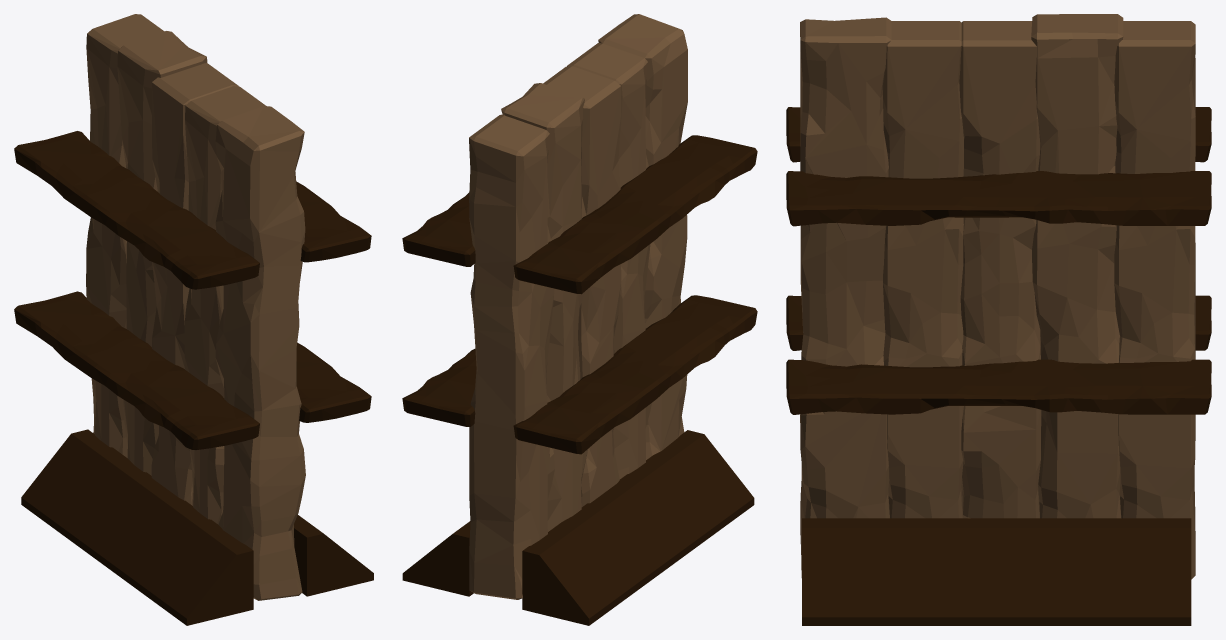
The model's file is Shelves.fbx.
The picture shows the model from 3 angles, left to right: view 1: azimuth 30°, elevation 25°; view 2: azimuth 150°, elevation 25°; view 3: azimuth 270°, elevation 25°; orthographic projection. The views are drawn at different scales.
Parts seen in each view (by area): view 1: plank3.008, Cube.032, plank3.016, plank3.017, plank3.009, plank3.012, plank3.014, plank3.010, plank3.015, Cube.031, plank3.013; view 2: plank3.014, Cube.032, plank3.017, plank3.016, plank3.008, plank3.010, plank3.009, plank3.012, plank3.015, plank3.013, Cube.031; view 3: Cube.031, plank3.008, plank3.010, plank3.012, plank3.009, plank3.014, plank3.013, plank3.015, plank3.017, plank3.016.
Part boxes in pixels (left/top/right/bottom): plank3.008: left=215, top=106, right=305, bottom=600; Cube.032: left=21, top=429, right=253, bottom=625; plank3.016: left=14, top=131, right=259, bottom=289; plank3.017: left=14, top=291, right=259, bottom=449; plank3.009: left=151, top=63, right=238, bottom=505; plank3.012: left=184, top=86, right=265, bottom=524; plank3.014: left=86, top=14, right=164, bottom=457; plank3.010: left=117, top=31, right=207, bottom=475; plank3.015: left=296, top=342, right=371, bottom=422; Cube.031: left=294, top=515, right=373, bottom=596; plank3.013: left=296, top=181, right=371, bottom=262; plank3.014: left=469, top=114, right=554, bottom=599; Cube.032: left=522, top=430, right=754, bottom=625; plank3.017: left=513, top=295, right=757, bottom=454; plank3.016: left=513, top=135, right=757, bottom=294; plank3.008: left=598, top=14, right=687, bottom=459; plank3.010: left=501, top=83, right=587, bottom=531; plank3.009: left=543, top=66, right=621, bottom=506; plank3.012: left=567, top=43, right=651, bottom=479; plank3.015: left=402, top=349, right=476, bottom=426; plank3.013: left=402, top=192, right=475, bottom=266; Cube.031: left=402, top=521, right=473, bottom=596; Cube.031: left=802, top=518, right=1191, bottom=625; plank3.008: left=800, top=17, right=891, bottom=577; plank3.010: left=1031, top=14, right=1123, bottom=518; plank3.012: left=882, top=21, right=963, bottom=518; plank3.009: left=959, top=21, right=1041, bottom=518; plank3.014: left=1114, top=21, right=1195, bottom=579; plank3.013: left=786, top=171, right=1211, bottom=226; plank3.015: left=786, top=359, right=1211, bottom=414; plank3.017: left=786, top=295, right=1211, bottom=350; plank3.016: left=786, top=107, right=1211, bottom=162.
Size of the model in its own units: 151 by 364 by 254.
